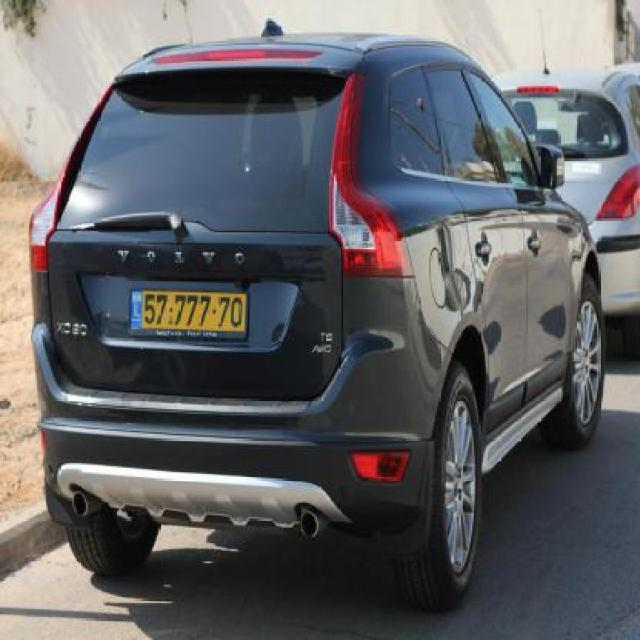License-Plates: (126, 285, 252, 333)
